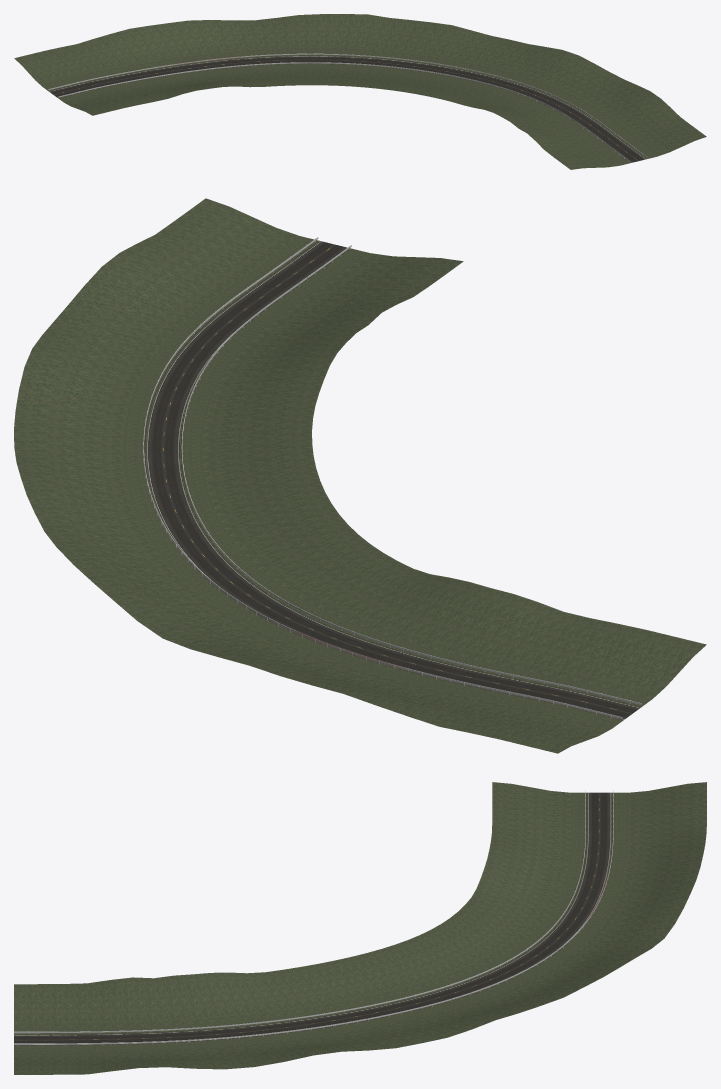
The picture shows the model from 3 angles, top to bottom: view 1: azimuth 30°, elevation 25°; view 2: azimuth 150°, elevation 25°; view 3: azimuth 270°, elevation 25°; orthographic projection. The views are drawn at different scales.
Parts seen in each view (by area): view 1: Grass, HighWay, GuardRail; view 2: Grass, HighWay, GuardRail; view 3: Grass, HighWay, GuardRail.
Boxes of the visible parts, x1,y1,x2,y2 form: Grass: (14, 14, 706, 169); HighWay: (49, 55, 646, 162); GuardRail: (48, 53, 647, 161); Grass: (14, 198, 706, 753); HighWay: (144, 240, 641, 720); GuardRail: (143, 237, 641, 719); Grass: (14, 782, 706, 1074); HighWay: (14, 792, 612, 1045); GuardRail: (14, 790, 613, 1045).
Size of what is drawn, in the model's own units: 355 by 14.59 by 355.
